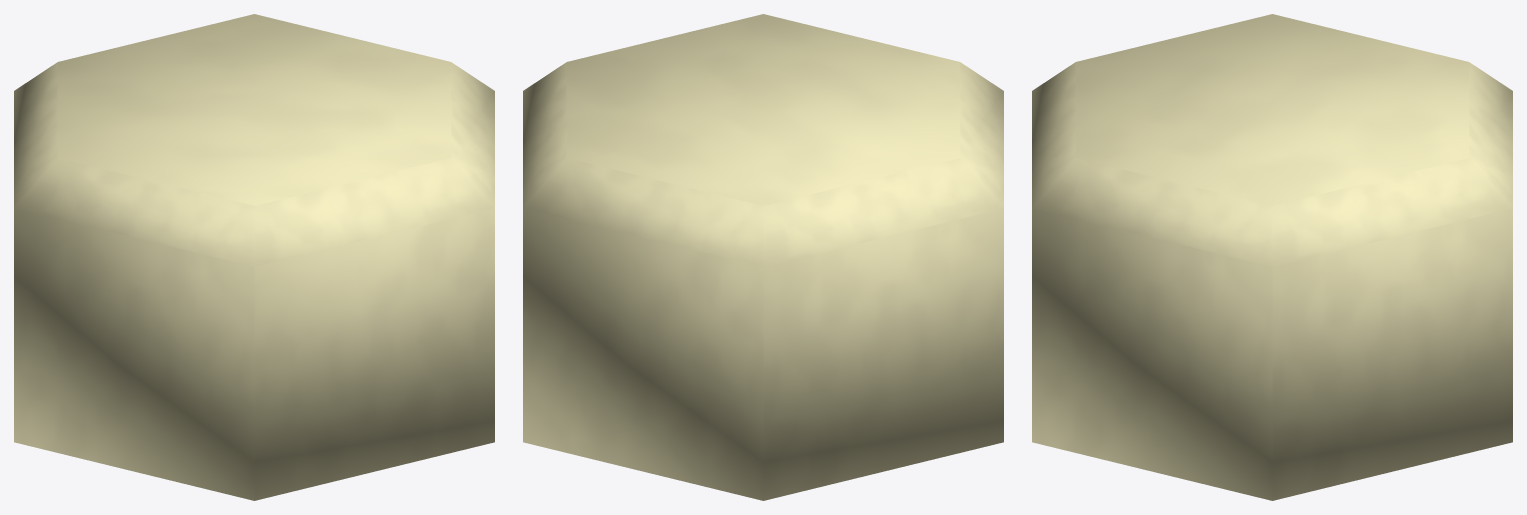
The model's file is Cake_C_03.FBX.
3 views of the same model, side by side, from view 1: azimuth 30°, elevation 25°; view 2: azimuth 150°, elevation 25°; view 3: azimuth 270°, elevation 25° (orthographic).
Parts seen in each view (by area): view 1: Cake_D; view 2: Cake_D; view 3: Cake_D.
Part boxes in pixels (x1=…): Cake_D: x1=14, y1=14, x2=494, y2=500; Cake_D: x1=523, y1=14, x2=1003, y2=500; Cake_D: x1=1032, y1=14, x2=1512, y2=500.
Bounding box in the file's own units: 102 × 55.58 × 88.51.
